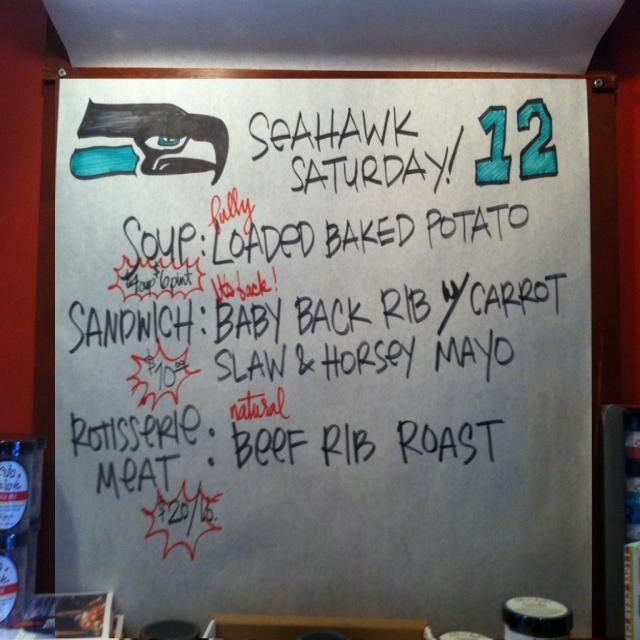Whiteboard: (51, 73, 596, 639)
